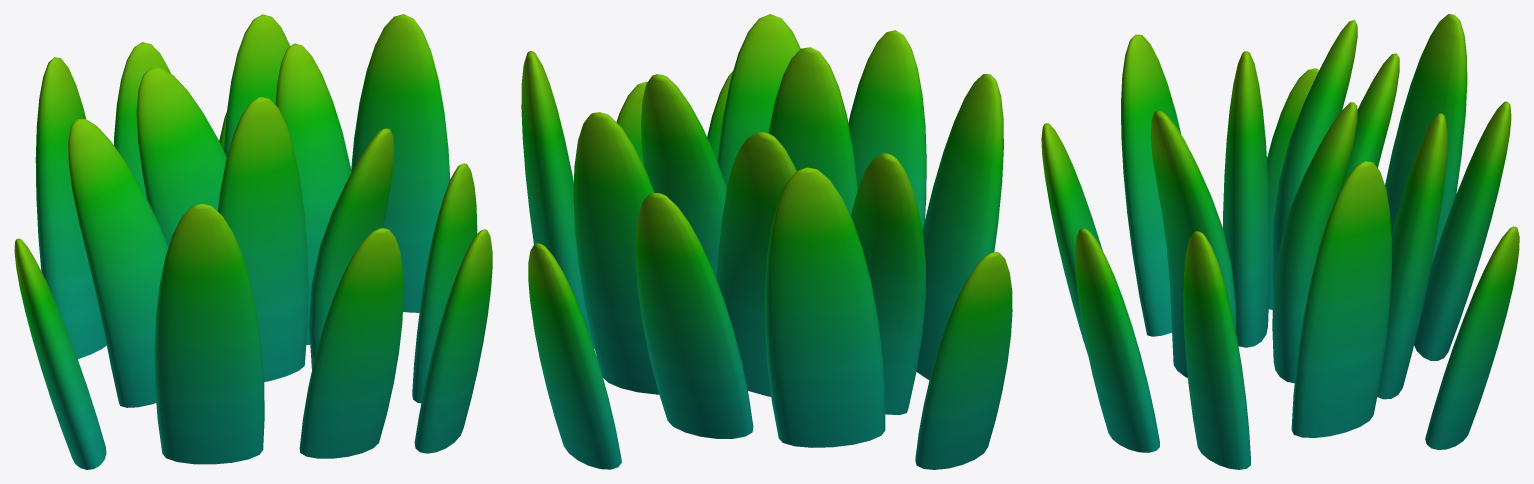
The model's file is Grass_decor.fbx.
3 renders of one model, left to right at view 1: azimuth 30°, elevation 25°; view 2: azimuth 150°, elevation 25°; view 3: azimuth 270°, elevation 25°, orthographic. The views are drawn at different scales.
Visible parts, largest first — view 1: pSphere16; view 2: pSphere16; view 3: pSphere16.
Boxes of the visible parts, box(x1,y1,x2,y2) form: pSphere16: box(14, 14, 492, 469); pSphere16: box(521, 14, 1012, 469); pSphere16: box(1041, 14, 1519, 469).
Size of the model in its own units: 18.17 by 13.39 by 17.29.
1 material, 1 textured.
